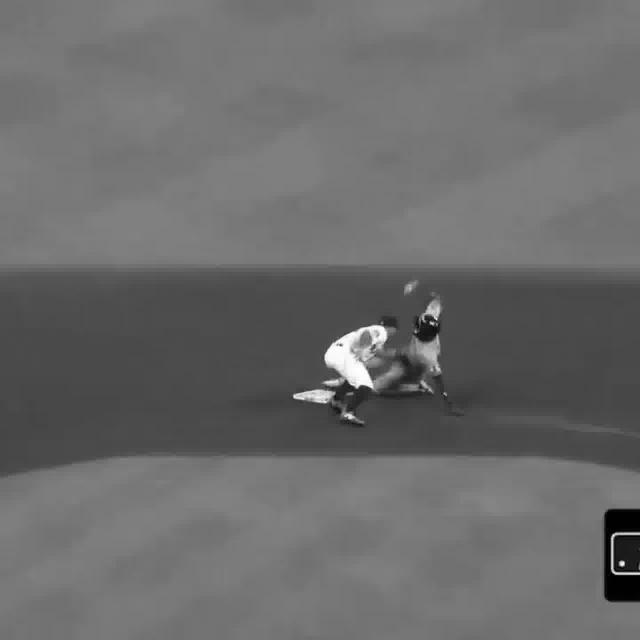base: (293, 387, 335, 406)
baseball_glove: (392, 346, 415, 368)
shoe: (340, 411, 368, 431)
